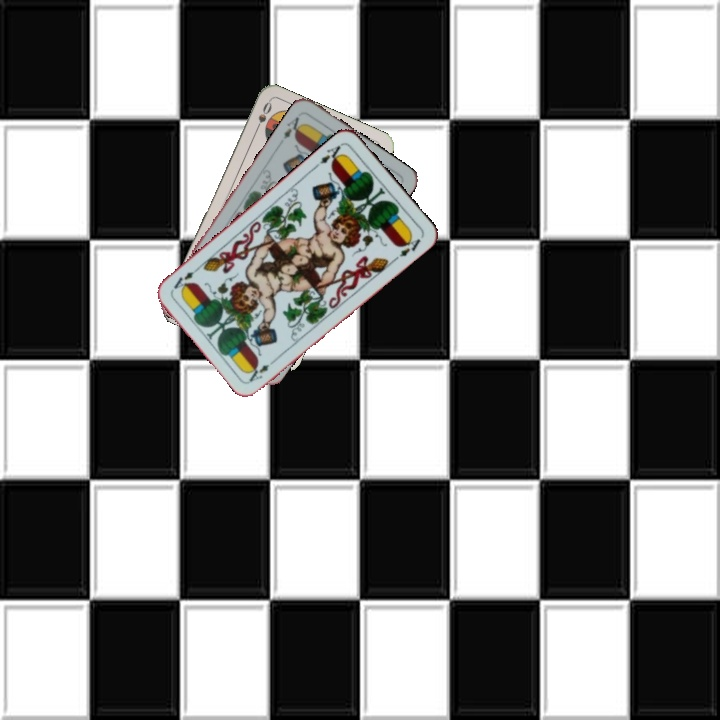EA: (245, 355, 279, 384), (315, 140, 347, 167), (279, 113, 307, 142)
SO: (250, 97, 275, 136)
